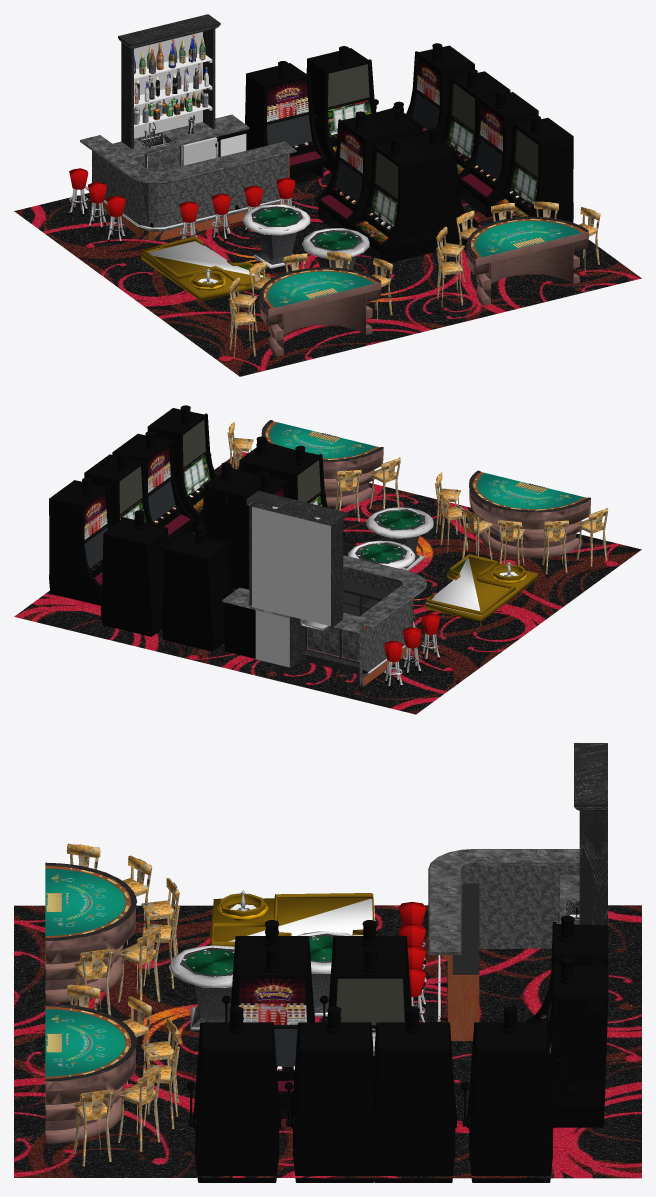
File: EscenarioCasino.fbx
The picture shows the model from 3 angles, top to bottom: view 1: azimuth 30°, elevation 25°; view 2: azimuth 150°, elevation 25°; view 3: azimuth 270°, elevation 25°; orthographic projection. The views are drawn at different scales.
Visible parts, largest first — view 1: Object_7.001; view 2: Object_7.001; view 3: Object_7.001.
Part boxes in pixels (box(x1,y1,x2,y2)): Object_7.001: box(14, 14, 641, 376); Object_7.001: box(14, 405, 641, 714); Object_7.001: box(14, 743, 641, 1182).
Bounding box in the file's own units: 2271 × 916 × 2211.
100 materials, 81 textured.
